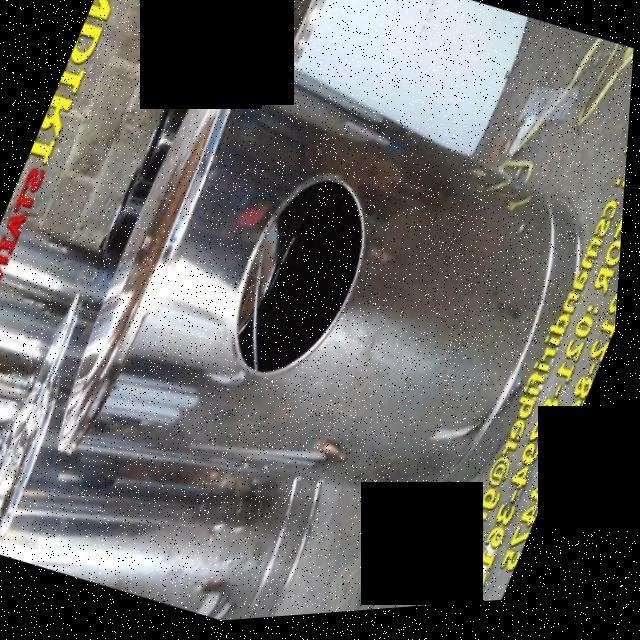bin: (37, 0, 639, 569)
